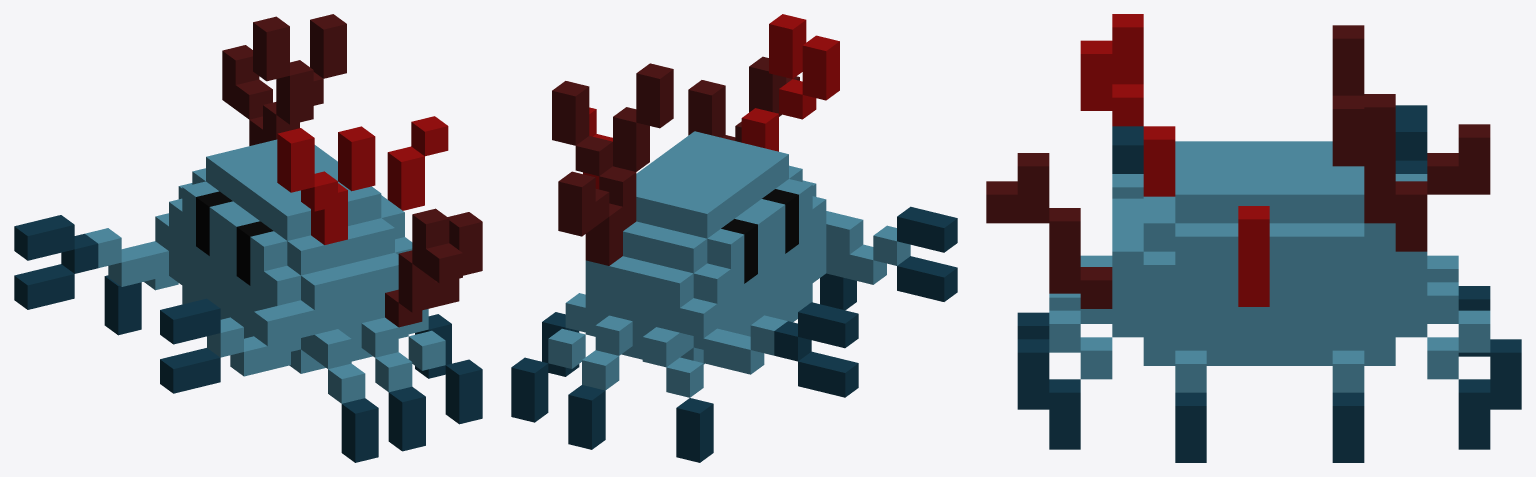
File: Decorator_Crab.obj
3 views of the same model, side by side, from view 1: azimuth 30°, elevation 25°; view 2: azimuth 150°, elevation 25°; view 3: azimuth 270°, elevation 25° (orthographic). The views are drawn at different scales.
Bounding box in the file's own units: 1.5 × 1.3 × 1.7.
1 material, 1 textured.
